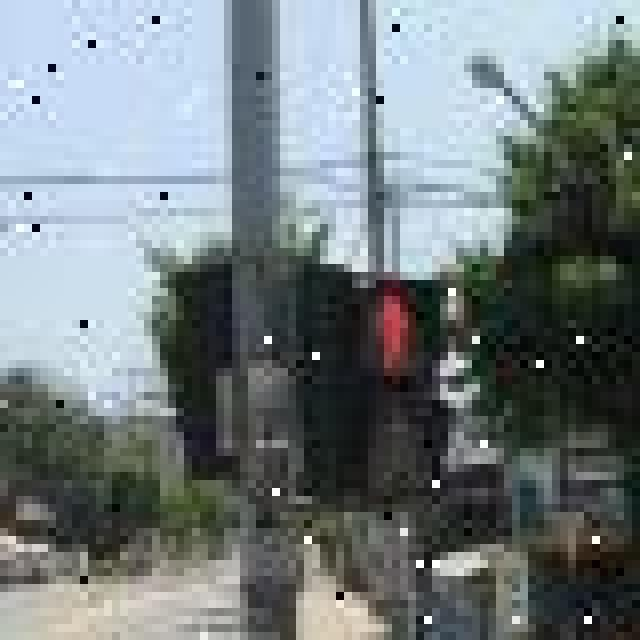redlight: (354, 277, 442, 492)
